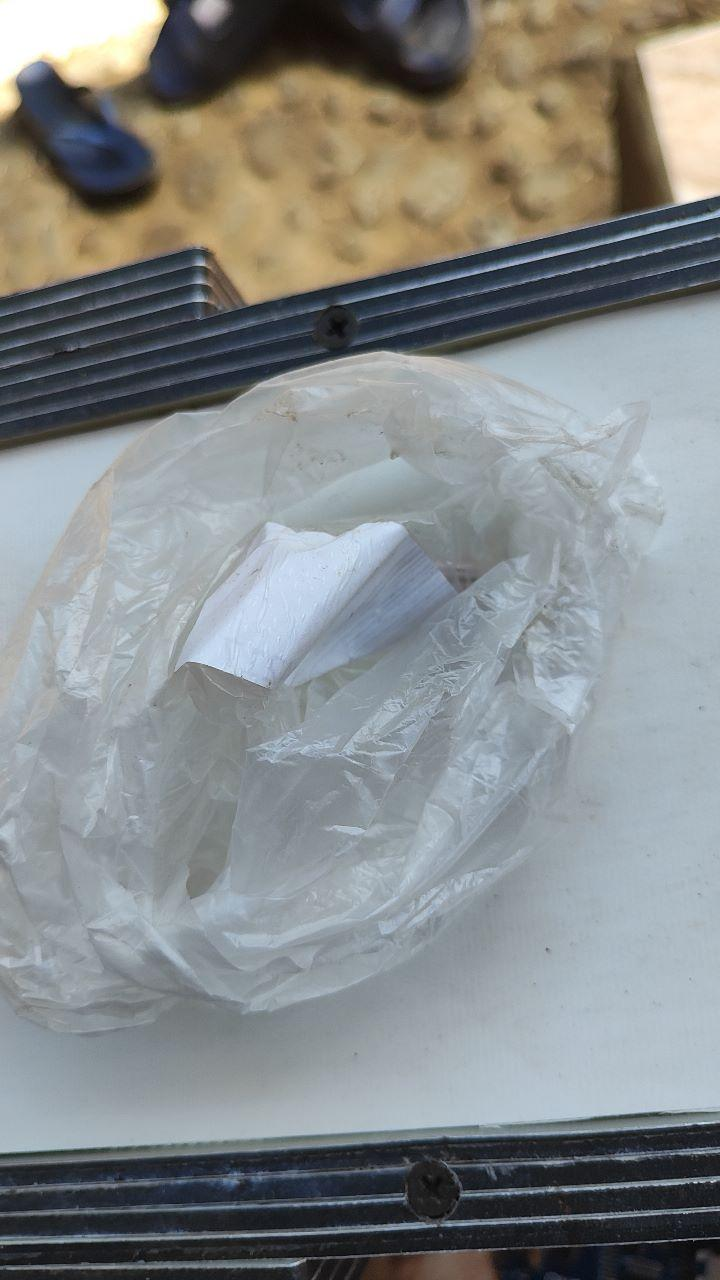Plastik: (0, 348, 676, 1040)
